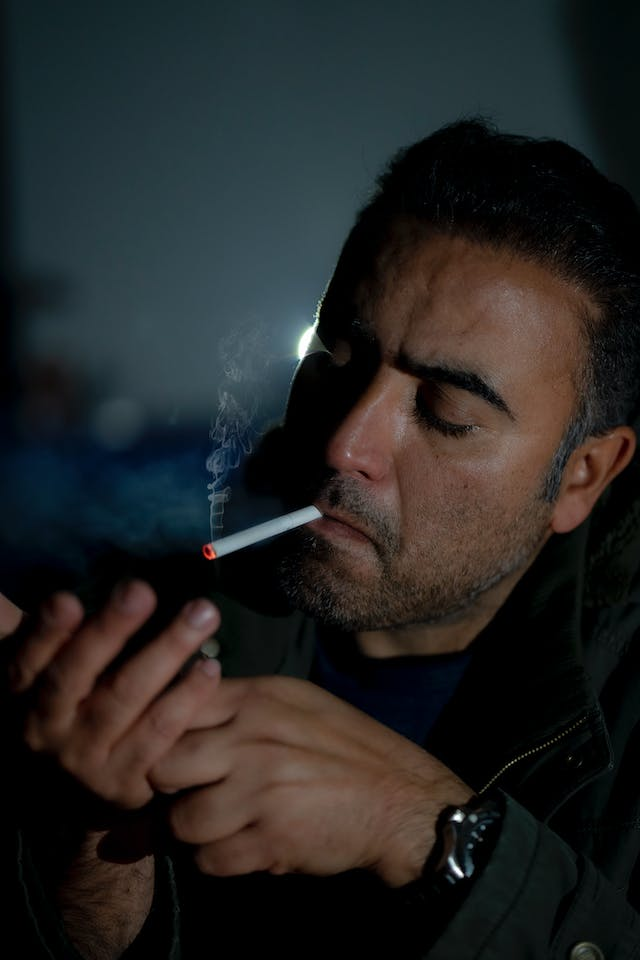Cigarette: (203, 505, 325, 560)
